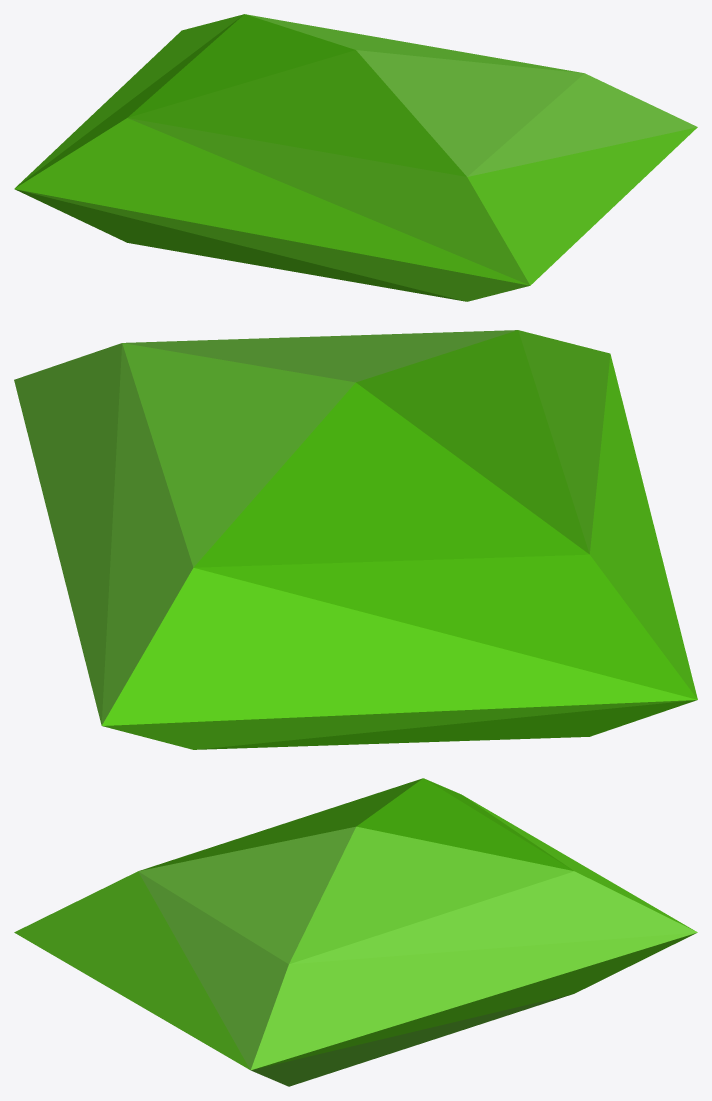
Rendered from prop_treasure_gem_emerald_2.fbx.
3 views of the same model, one above another, from view 1: azimuth 30°, elevation 25°; view 2: azimuth 150°, elevation 25°; view 3: azimuth 270°, elevation 25° (orthographic). The views are drawn at different scales.
Parts seen in each view (by area): view 1: prop_treasure_gem_emerald_2; view 2: prop_treasure_gem_emerald_2; view 3: prop_treasure_gem_emerald_2.
Boxes of the visible parts, x1,y1,x2,y2 form: prop_treasure_gem_emerald_2: (14,14,697,301); prop_treasure_gem_emerald_2: (14,330,697,749); prop_treasure_gem_emerald_2: (14,778,697,1086).
Size of the model in its own units: 0.4772 by 0.1708 by 0.5001.
